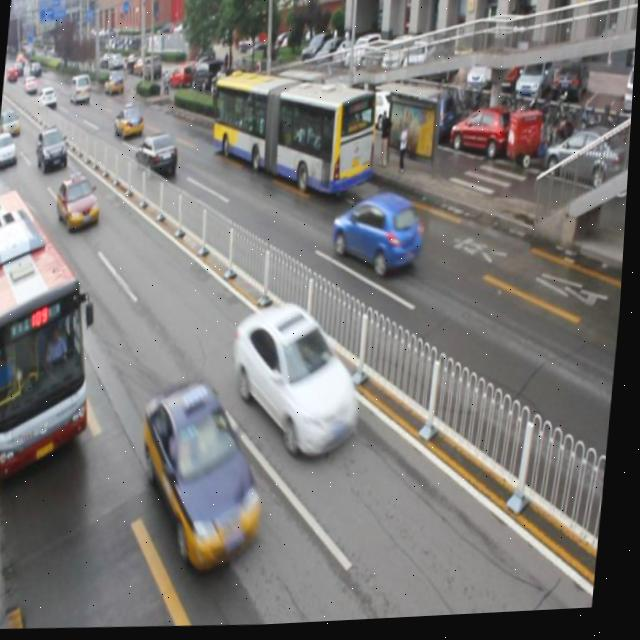car: (138, 378, 278, 576), (231, 305, 374, 466), (331, 191, 426, 285), (56, 169, 106, 232), (136, 133, 181, 179), (35, 127, 72, 173), (114, 101, 146, 139)
van: (0, 187, 112, 482), (206, 63, 381, 207)
